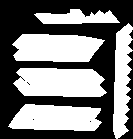parkingspot: (113, 23, 133, 139), (13, 77, 106, 96), (16, 68, 104, 86), (8, 114, 101, 130), (12, 34, 104, 50), (16, 104, 100, 121), (13, 44, 96, 61), (34, 9, 119, 23)
